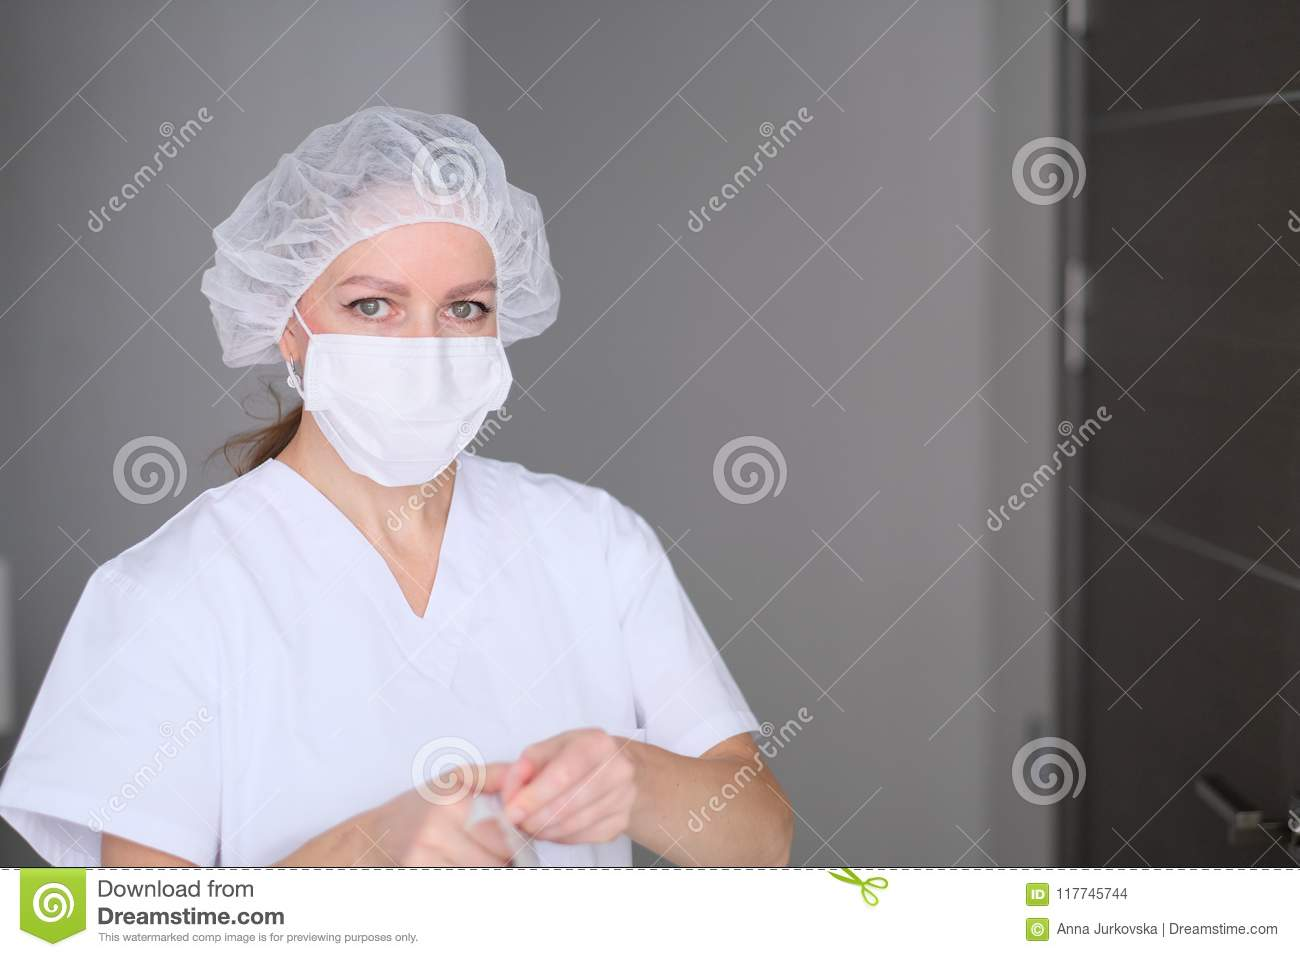mask: (283, 320, 519, 482)
